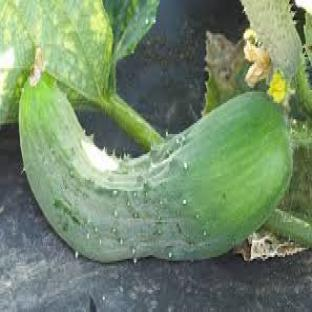Cucumber: (19, 76, 292, 262)
